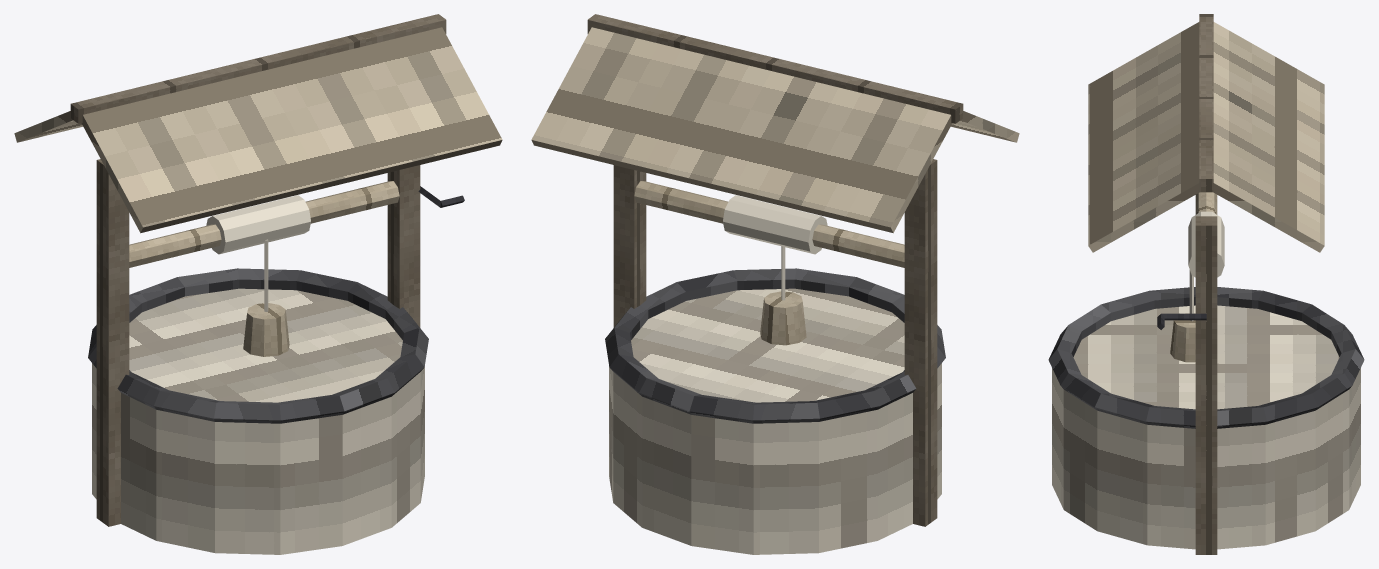
The model's file is well.obj.
3 renders of one model, left to right at view 1: azimuth 30°, elevation 25°; view 2: azimuth 150°, elevation 25°; view 3: azimuth 270°, elevation 25°, orthographic. The views are drawn at different scales.
Parts seen in each view (by area): view 1: well; view 2: well; view 3: well.
Part boxes in pixels (left/top/right/bottom): well: left=14, top=14, right=502, bottom=554; well: left=531, top=14, right=1019, bottom=554; well: left=1048, top=14, right=1364, bottom=554.
Bounding box in the file's own units: 2.15 × 2.36 × 1.74.
